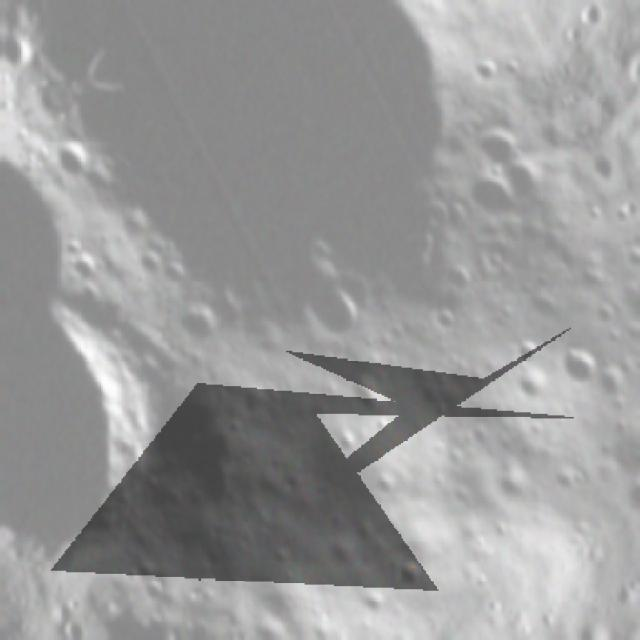crater: (44, 0, 567, 435), (0, 274, 223, 575), (438, 155, 532, 248), (291, 268, 372, 354), (158, 287, 232, 364), (492, 146, 562, 220), (462, 114, 535, 184), (542, 331, 610, 398), (38, 127, 99, 193), (381, 549, 436, 605), (503, 358, 555, 413), (502, 329, 548, 377), (359, 466, 404, 512), (64, 247, 108, 293), (464, 49, 508, 93), (612, 472, 640, 520), (267, 635, 318, 640)
